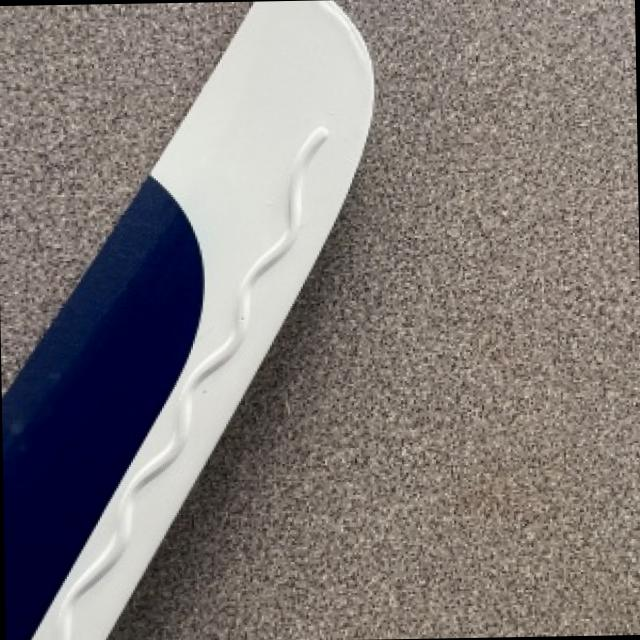healthy: (3, 0, 374, 640)
